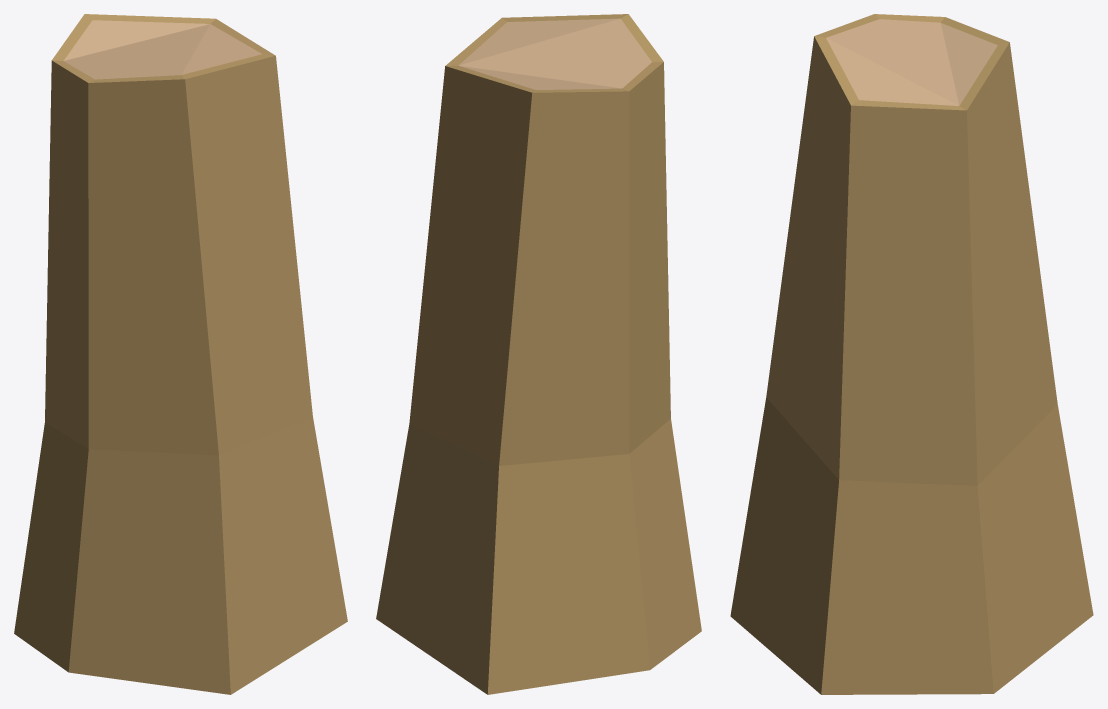
File: Oak_Stump_01_LOD.fbx
The picture shows the model from 3 angles, left to right: view 1: azimuth 30°, elevation 25°; view 2: azimuth 150°, elevation 25°; view 3: azimuth 270°, elevation 25°; orthographic projection.
Visible parts, largest first — view 1: Oak_Stump_01_LOD0; view 2: Oak_Stump_01_LOD0; view 3: Oak_Stump_01_LOD0.
Boxes of the visible parts, box(x1,y1,x2,y2) form: Oak_Stump_01_LOD0: box(14, 14, 347, 694); Oak_Stump_01_LOD0: box(376, 14, 701, 694); Oak_Stump_01_LOD0: box(730, 14, 1093, 694).
Size of what is drawn, in the model's own units: 63.36 by 135 by 76.71.
